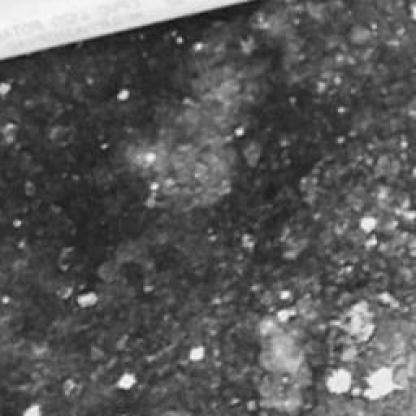PVC: (2, 1, 250, 59)
